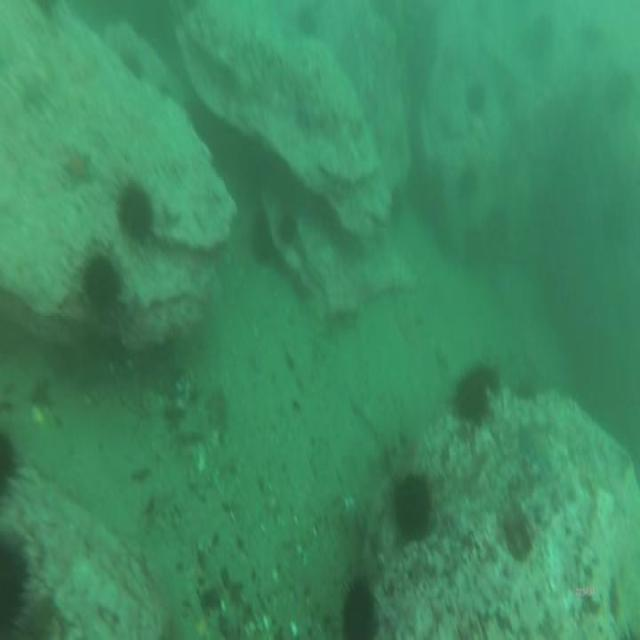echinus: (344, 578, 376, 640), (396, 479, 428, 537), (82, 259, 115, 310), (118, 185, 150, 234), (455, 372, 486, 421), (251, 215, 272, 257), (468, 79, 486, 112), (462, 166, 476, 199), (280, 213, 298, 237)
starfish: (66, 146, 93, 190)
